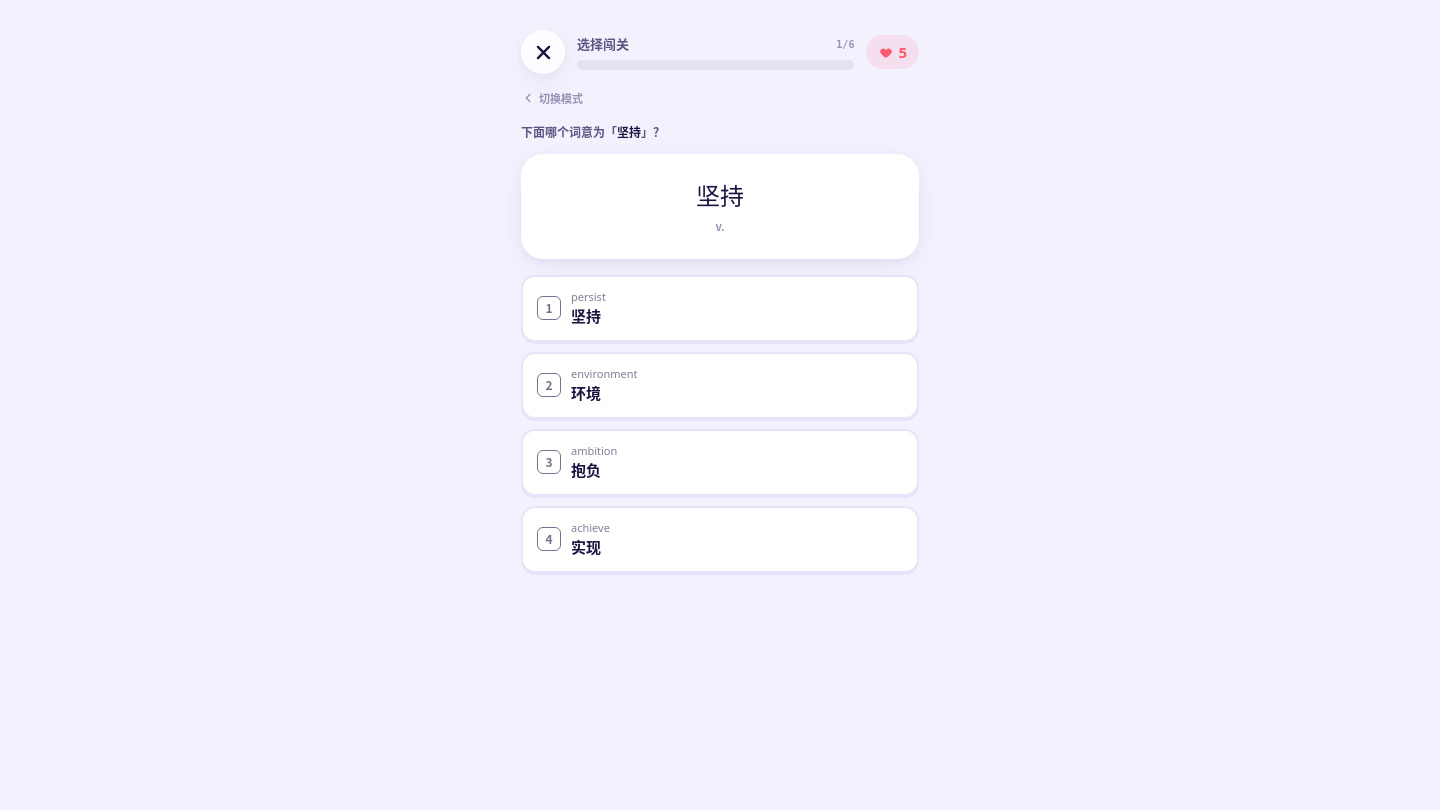
StudySessionScreen › plays multiple choice with feedback and advances to the next word
Expected: the heading "选择闯关" is shown, [577, 34, 629, 54]
Expected: the text "下面哪个词意为「坚持」？" is shown, [521, 123, 665, 140]
Click the button "1 persist 坚持".
click(588, 296)  # box [521, 275, 919, 342]
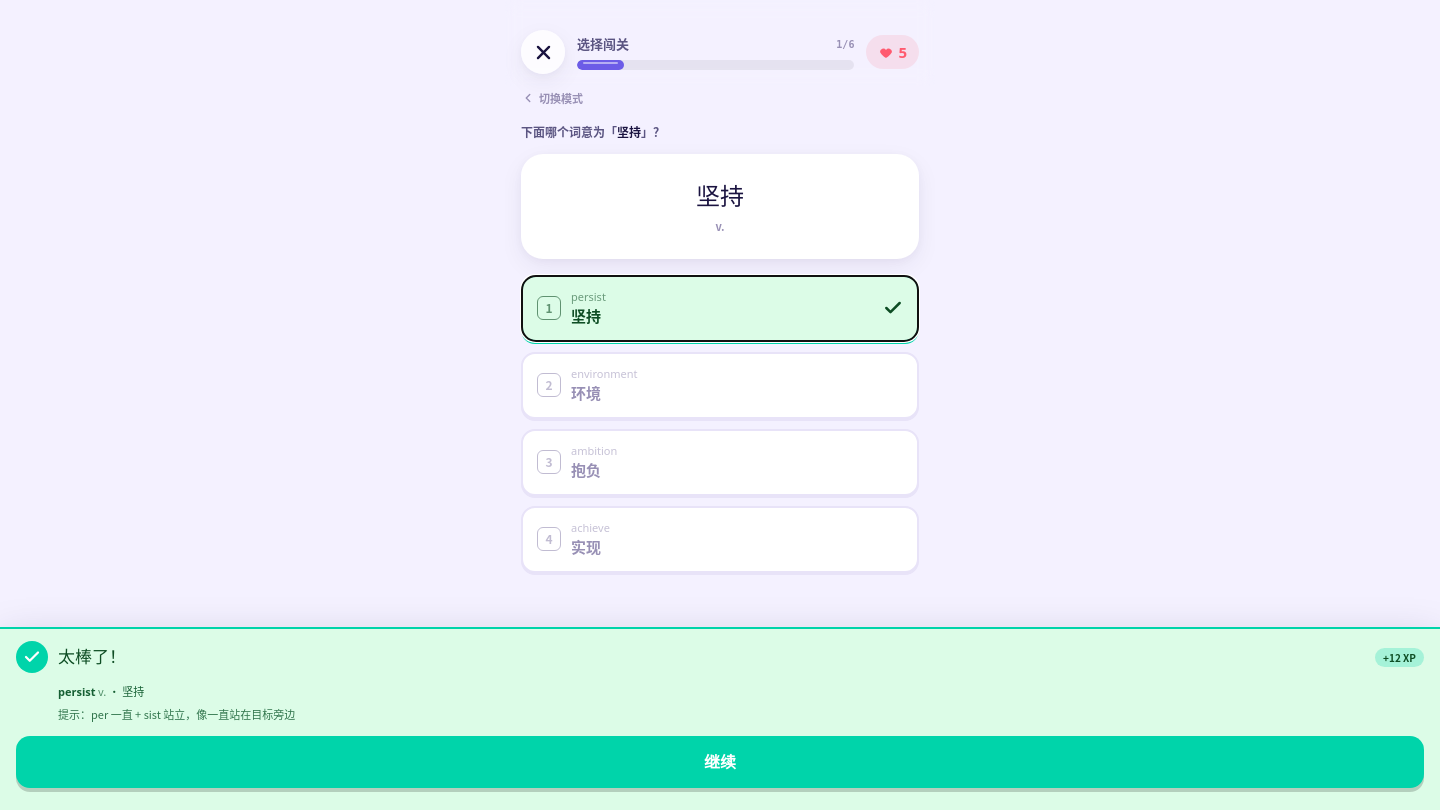
Now the text "太棒了！" is shown, box [58, 645, 126, 668]
Now the text "+12 XP" is shown, box [1375, 648, 1424, 666]
Click the button "继续".
click(720, 762)  # box [16, 736, 1424, 788]
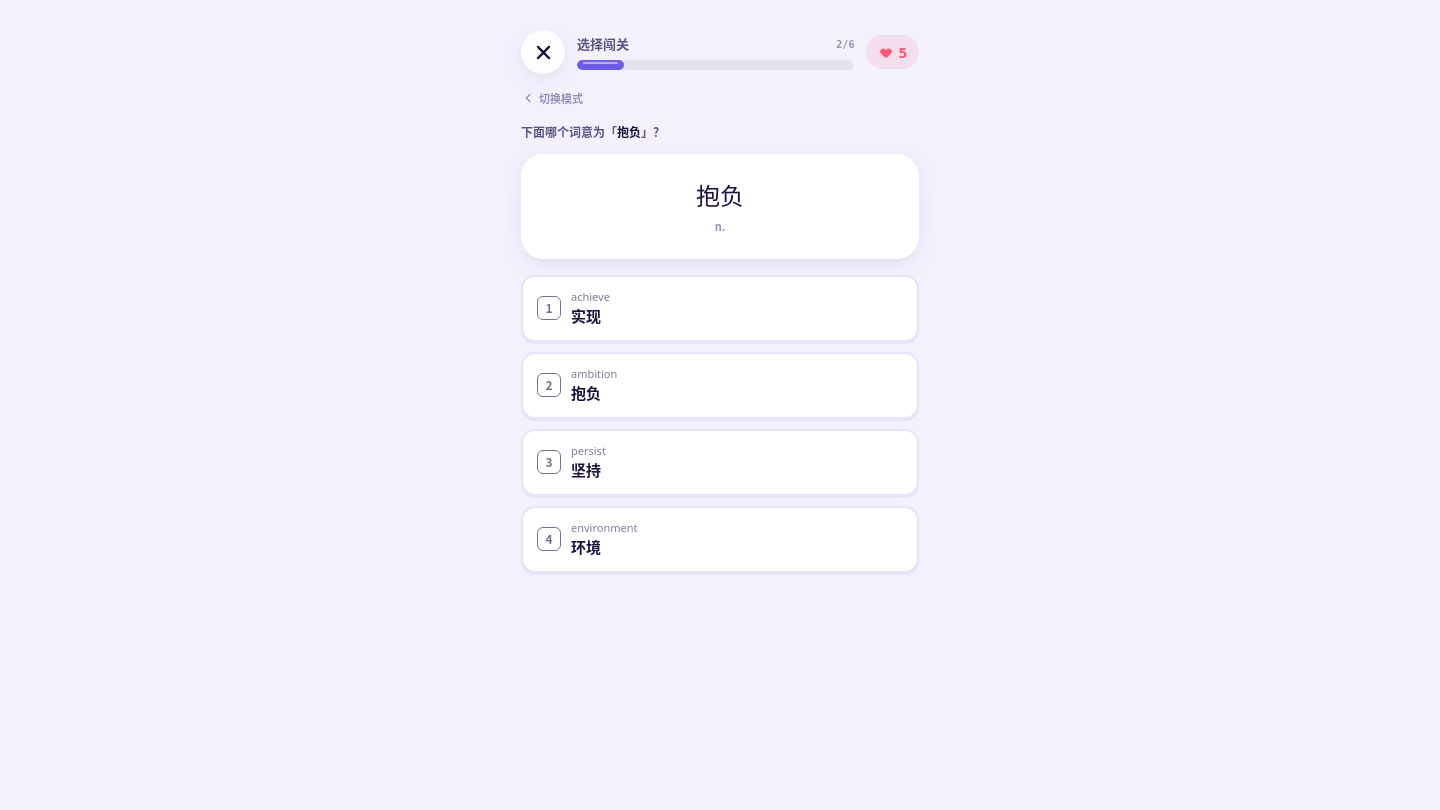
Now the button "2 ambition 抱负" is shown, box [521, 352, 919, 419]
